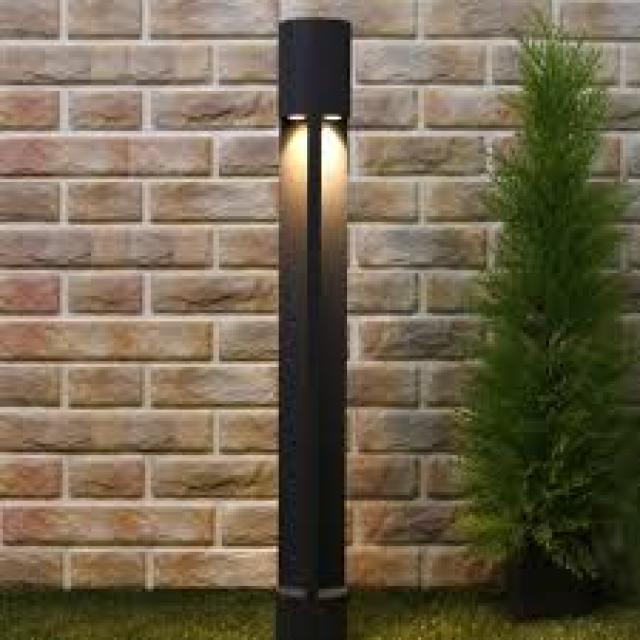bollard: (271, 6, 379, 640)
